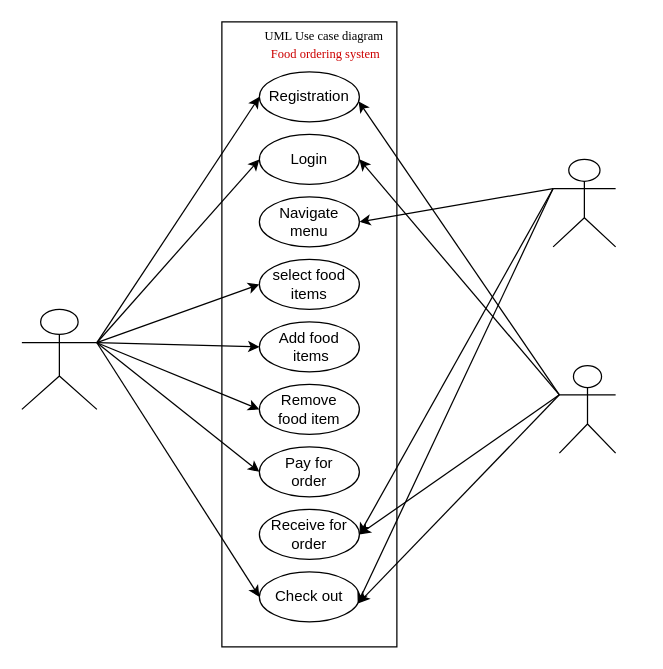
The diagram is 663 pixels wide and 669 high, and some of its shapes have lost their labels. The shapes that lost their labels are listed below. From the top down, each one's centre as x and y in pixels, then its label:
(x=584, y=202): Admin
(x=59, y=358): Customers
(x=587, y=408): Shop Employee
